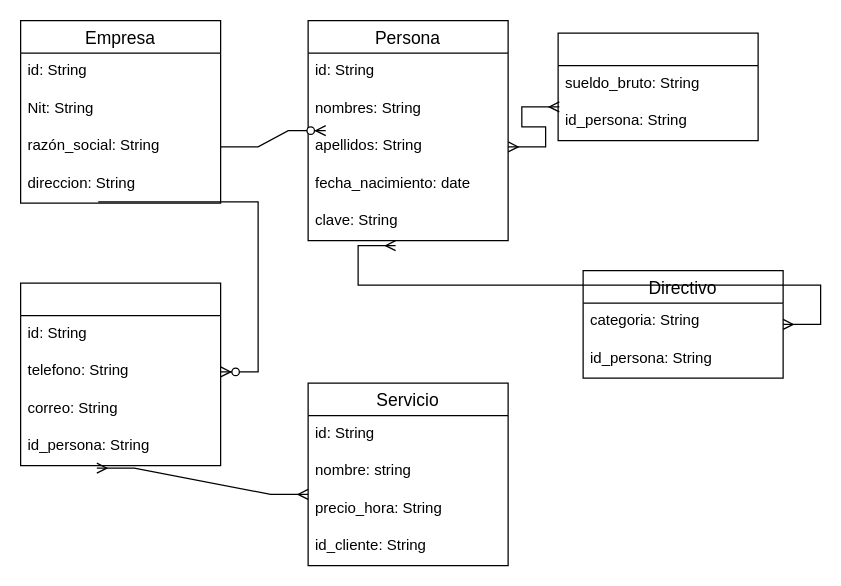
The diagram is 841 pixels wide and 586 high, and some of its shapes have lost their labels. The box of each missing label's shape, as (x1, y1, x2, y2) in pixels:
Cliente: (19, 282, 221, 466)
Empleado: (557, 32, 758, 141)
